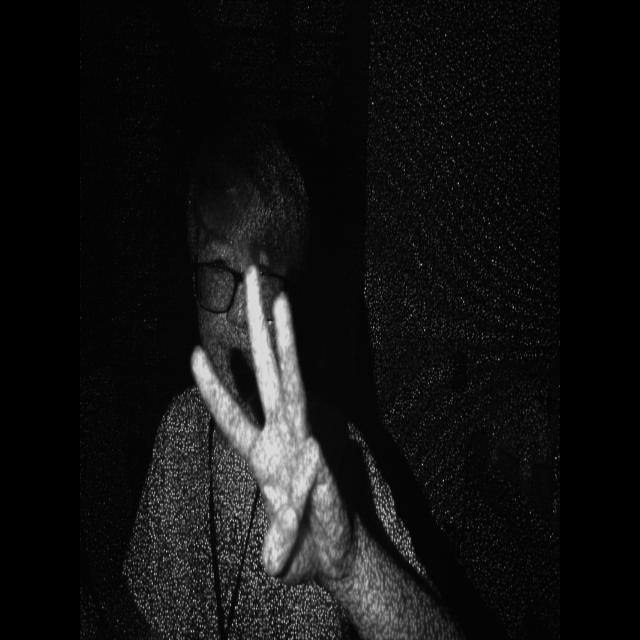W: (178, 243, 352, 599)
